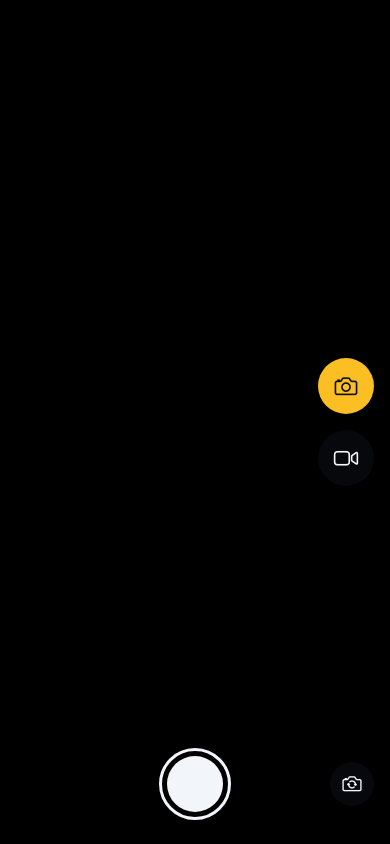
recording a video › refuses further taps while it is saving
This screenshot has width=390, height=844.
Click the radio button named "Video" at (346, 458), box [318, 430, 374, 486]
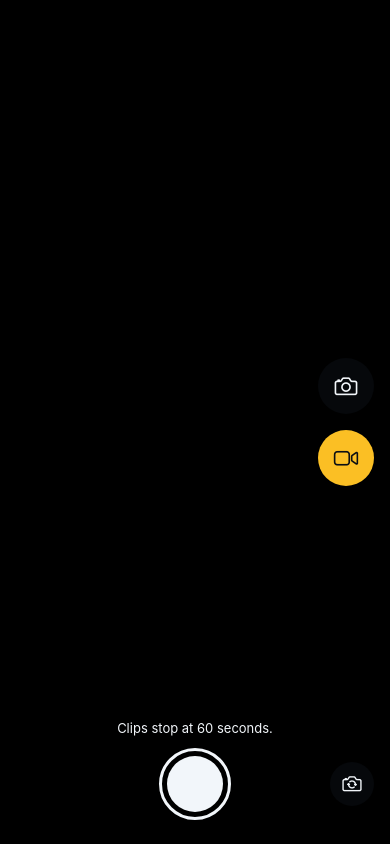
Click the button named "Start video" at (195, 784), box [159, 748, 231, 820]
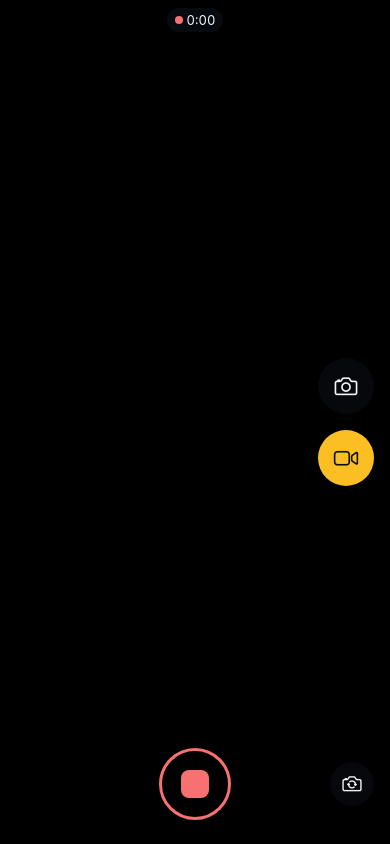
Click the button named "Stop video" at (195, 784), box [159, 748, 231, 820]
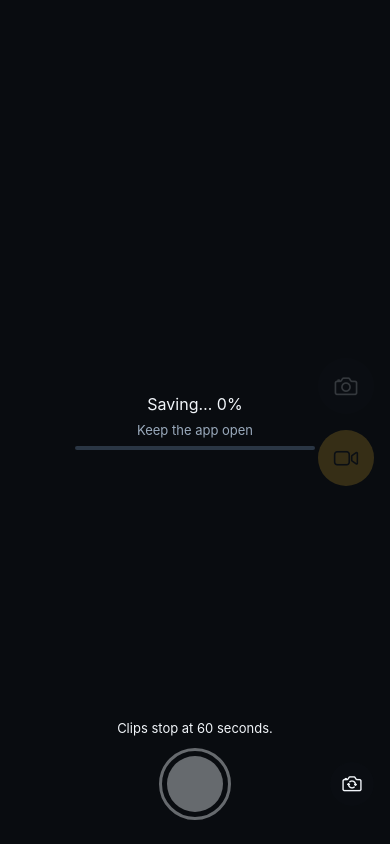
Check: the radio button named "Photo" is disabled, box [318, 358, 374, 414]
Check: the button named "Saving" is disabled, box [159, 748, 231, 820]
